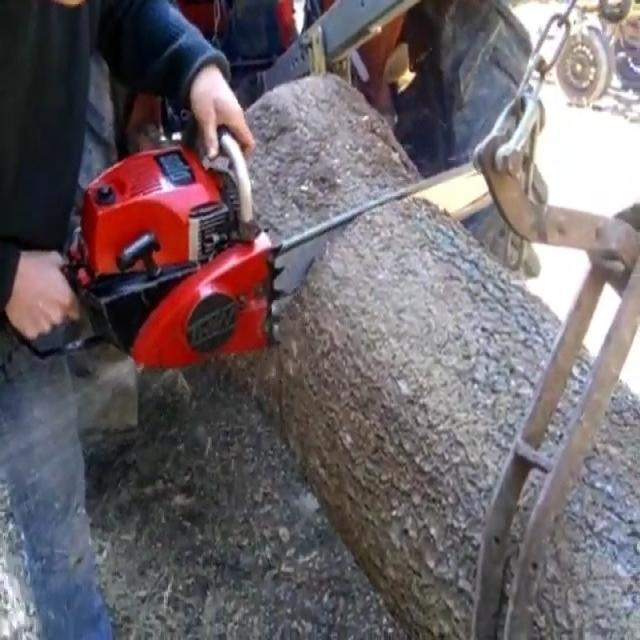Chainsaw: (17, 106, 508, 368)
